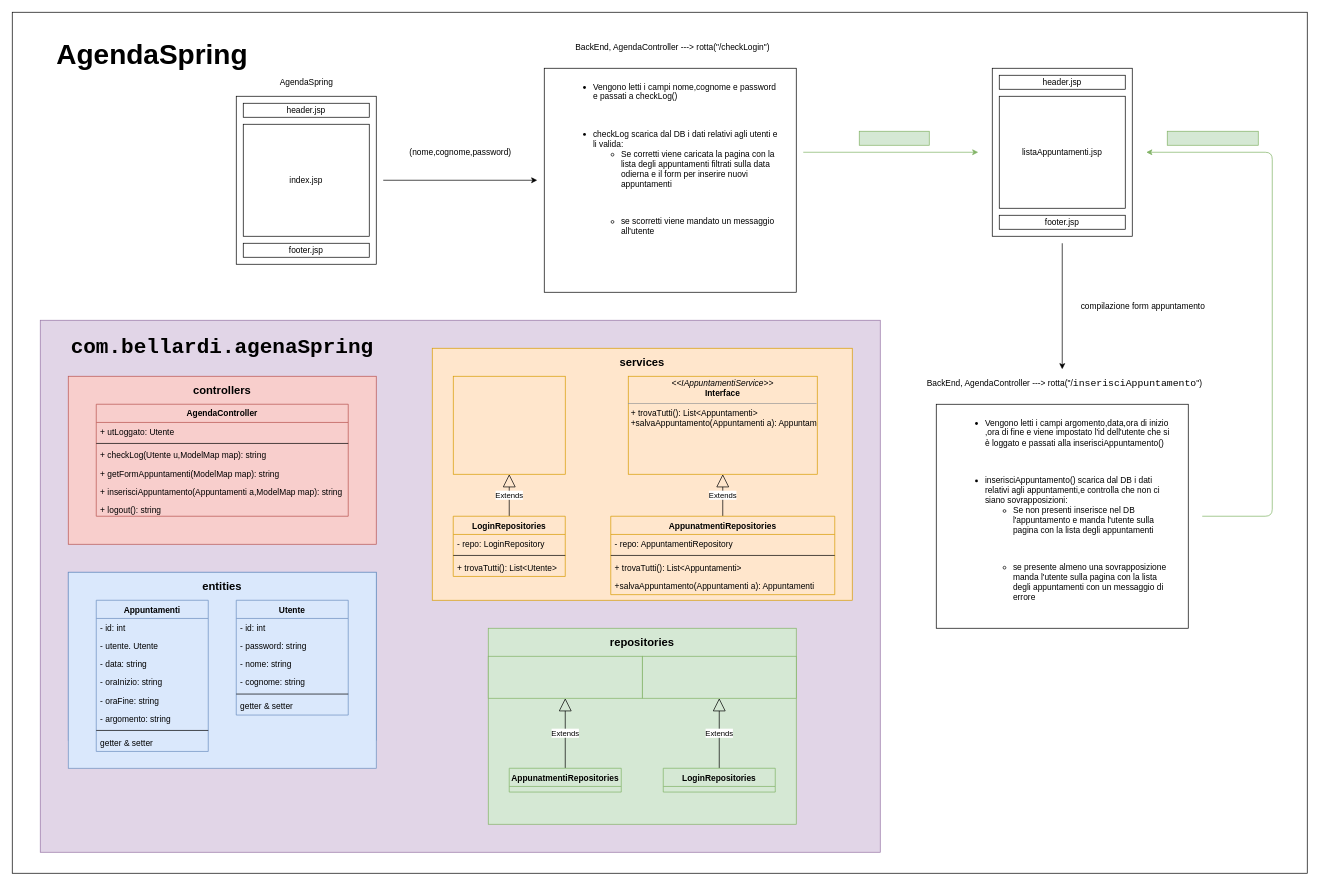
Image size: 1320x886. Some labels were removed from this diagram. The shapes that lost their labels are listed below. From the top down, each one's centre as x and y in pixels, then its label:
At (x=894, y=138): "login dell'utente".
At (x=1212, y=138): "appuntamento inserito".
At (x=509, y=425): "<<ILoginService>> Interface + trovaTutti(): List<Utente>".
At (x=565, y=677): "JpaRepository<Utente,Integer>".
At (x=719, y=677): "JpaRepository<Appuntamenti,Integer>".
